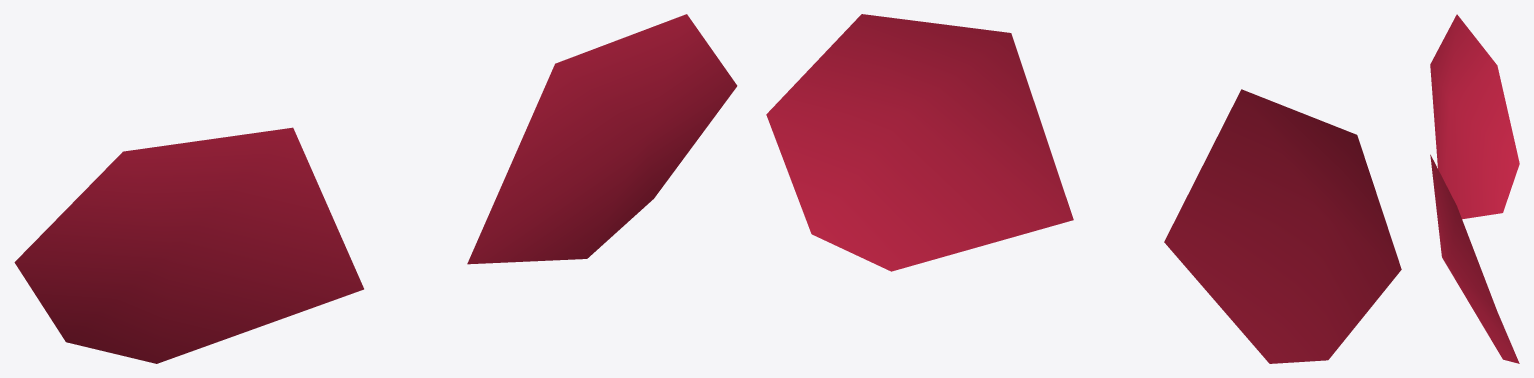
The picture shows the model from 3 angles, left to right: view 1: azimuth 30°, elevation 25°; view 2: azimuth 150°, elevation 25°; view 3: azimuth 270°, elevation 25°; orthographic projection. The views are drawn at different scales.
Parts seen in each view (by area): view 1: ef_814; view 2: ef_814; view 3: ef_814.
Boxes of the visible parts, bbox=[...] form: ef_814: bbox=[14, 14, 737, 363]; ef_814: bbox=[766, 14, 1401, 363]; ef_814: bbox=[1430, 14, 1519, 363].
Bounding box in the file's own units: 0.6431 × 0.2158 × 0.0989.
1 material, 1 textured.
